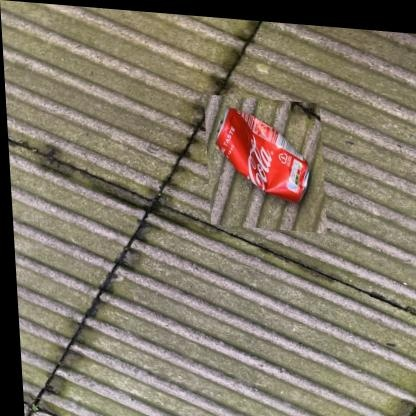trash: (216, 108, 308, 201)
